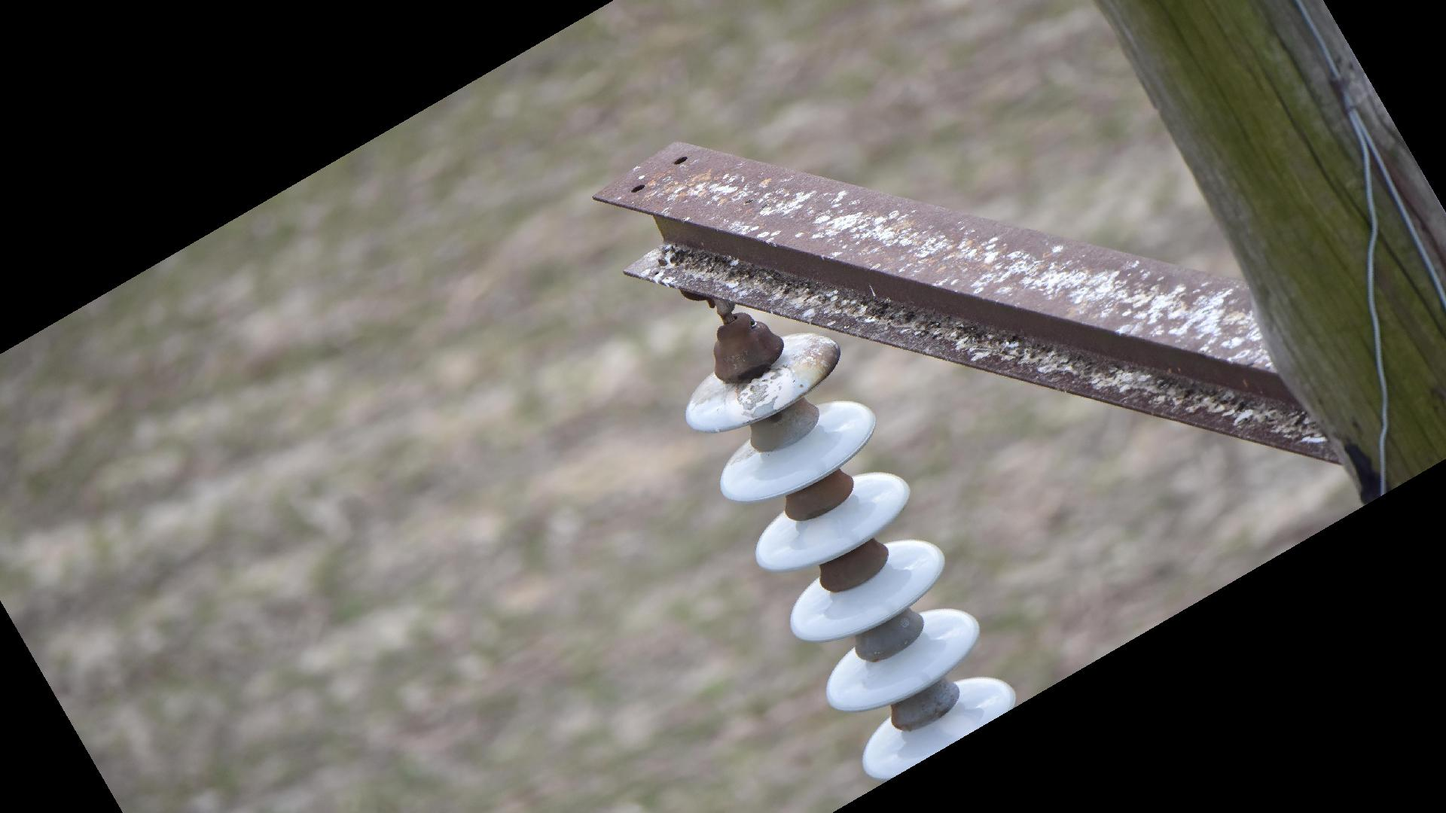insulator: (679, 327, 1021, 786)
insulator_flashover: (732, 361, 797, 423)
